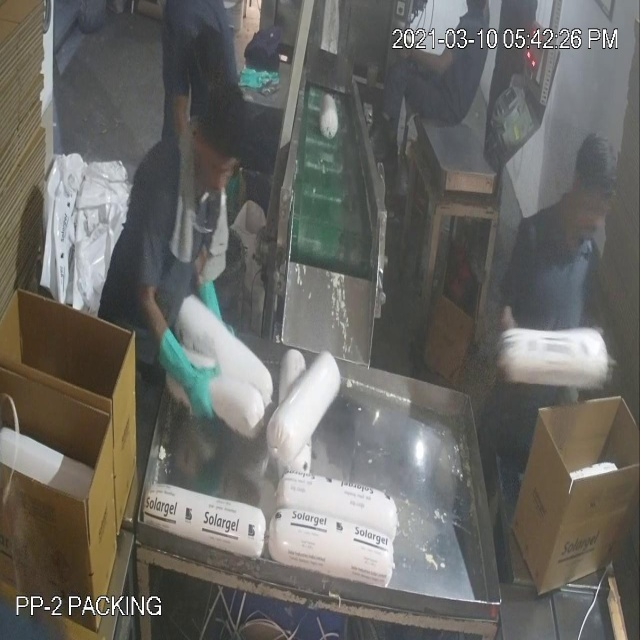Guantes: (146, 324, 221, 448)
Sin_guantes: (389, 44, 466, 77)
